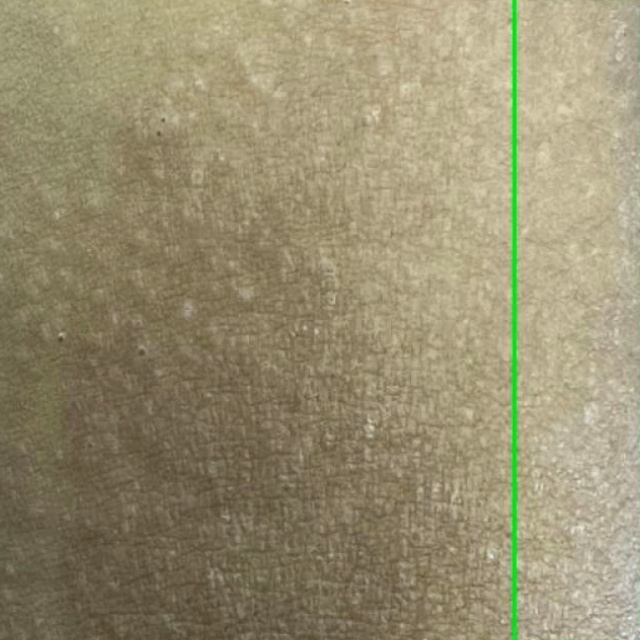Contact Dermatitis: (514, 0, 639, 639)
